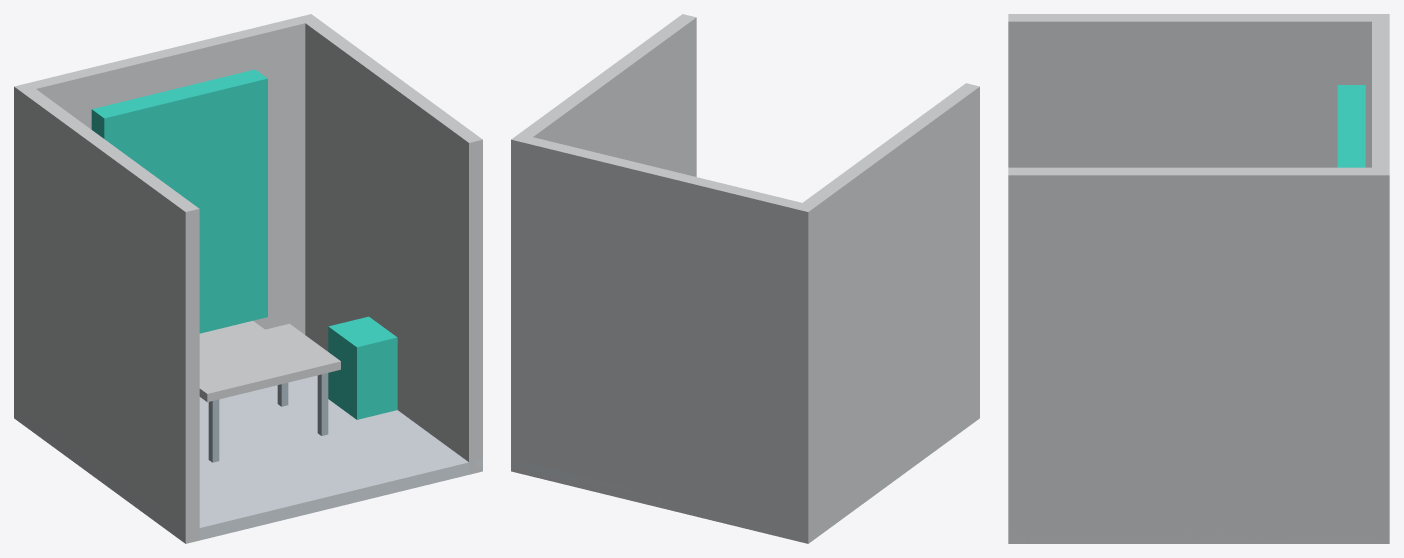
The picture shows the model from 3 angles, left to right: view 1: azimuth 30°, elevation 25°; view 2: azimuth 150°, elevation 25°; view 3: azimuth 270°, elevation 25°; orthographic projection. The views are drawn at different scales.
Parts seen in each view (by area): view 1: Exhibition Booth Concept; view 2: Exhibition Booth Concept; view 3: Exhibition Booth Concept.
Part boxes in pixels (left/top/right/bottom): Exhibition Booth Concept: left=14, top=14, right=482, bottom=543; Exhibition Booth Concept: left=511, top=14, right=979, bottom=543; Exhibition Booth Concept: left=1008, top=14, right=1389, bottom=543.
Bounding box in the file's own units: 3 × 3.2 × 3.
